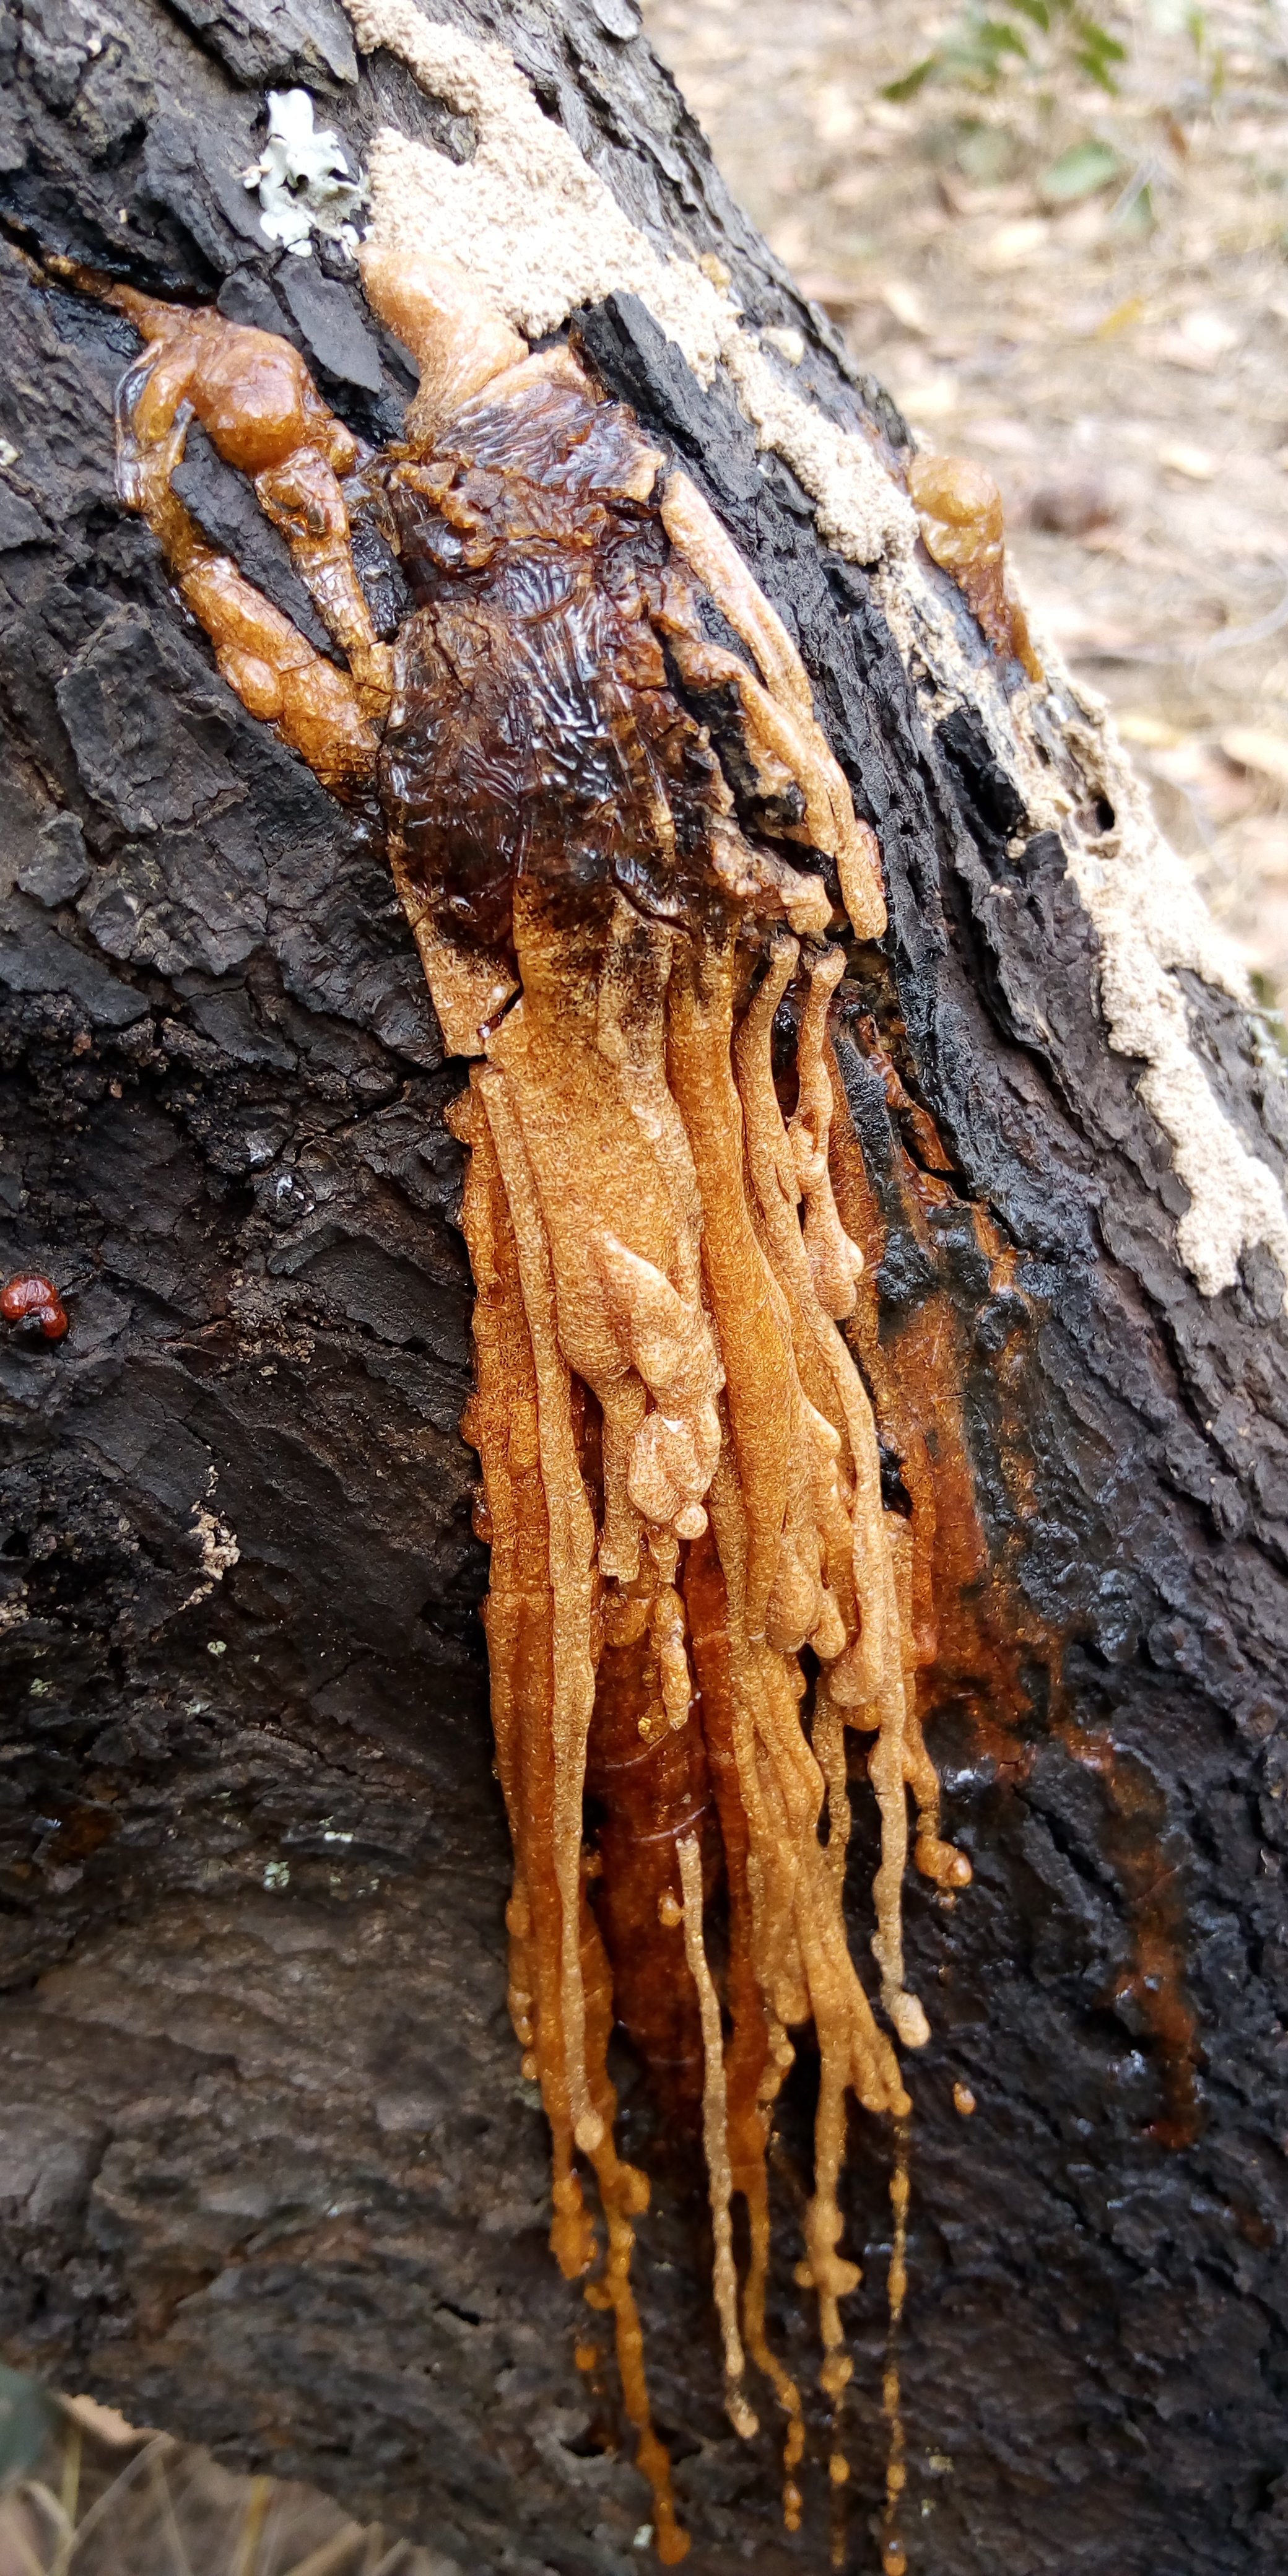Gommose: (368, 292, 1002, 2502), (20, 210, 379, 1960), (1043, 1127, 1288, 2538)
